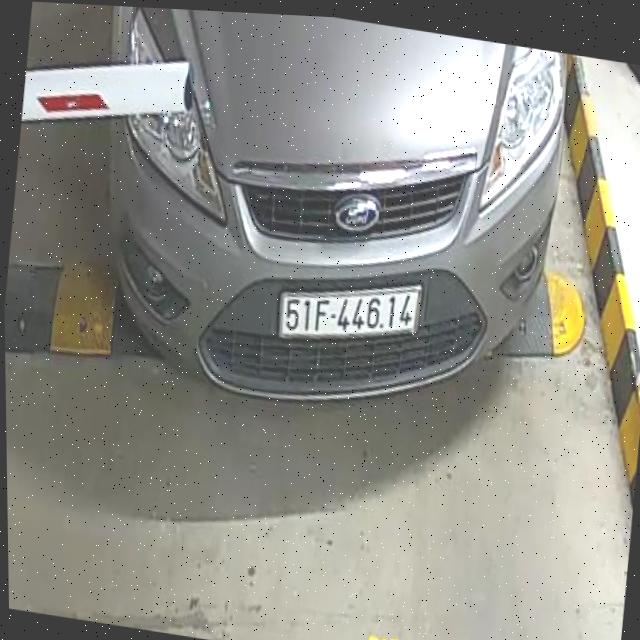car: (68, 4, 590, 454)
plate: (271, 264, 425, 360)
